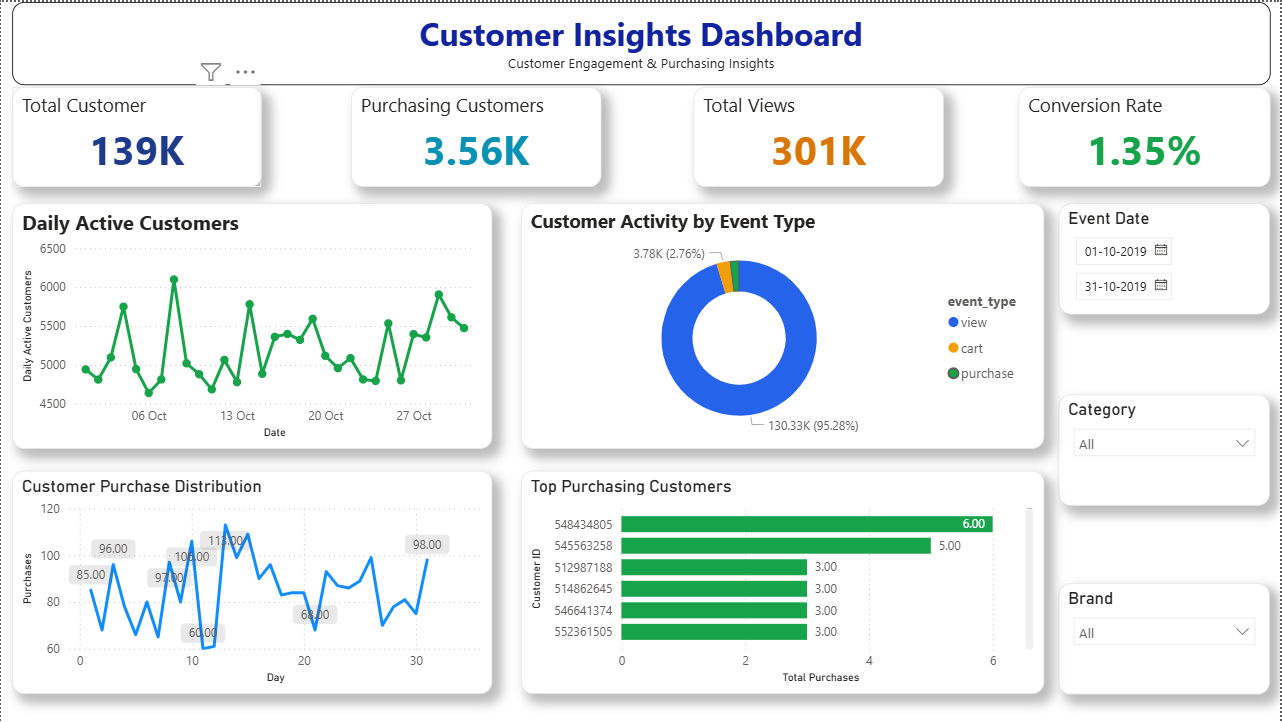

This screenshot's page, from the dashboard's own definition file:
{"tool":"powerbi","page":{"name":"Customer Insights Dashboard","canvas":[1280,720],"ordinal":1},"visuals":[{"type":"textbox","box":[11,0,1258.3,83.2],"z":0},{"type":"slicer","title":"Event Date","fields":{"Values":["events.event_date"]},"box":[1057.8,201.8,211.6,111.3],"z":1000},{"type":"slicer","title":"Category","fields":{"Values":["categories.category_code"]},"box":[1057.8,392.5,211.6,111.3],"z":2000},{"type":"slicer","title":"Brand","fields":{"Values":["products.brand"]},"box":[1057.8,580.8,211.6,111.3],"z":3000},{"type":"card","title":"Total Customer","fields":{"Values":["Measures (2).Total Customers"]},"box":[11,84.4,249.5,100.3],"z":4000},{"type":"card","title":"Purchasing Customers","fields":{"Values":["Measures (2).Total Purchasing Customers"]},"box":[349.7,84.4,250.7,100.3],"z":5000},{"type":"card","title":"Total Views","fields":{"Values":["Measures (2).Total Views"]},"box":[692.1,84.4,250.7,100.3],"z":6000},{"type":"card","title":"Conversion Rate","fields":{"Values":["Measures (2).Conversion Rate"]},"box":[1017.4,84.4,251.9,100.3],"z":7000},{"type":"lineChart","title":"Daily Active Customers","fields":{"Category":["events.event_date"],"Y":["Measures (2).Daily Active Customers"]},"box":[11.3,201.8,480.2,245.7],"z":8000},{"type":"donutChart","title":"Customer Activity by Event Type","fields":{"Category":["events.event_type"],"Y":["CountNonNull(events.event_id)"]},"box":[519.6,201.8,523,245.7],"z":9000},{"type":"lineChart","title":"Customer Purchase Distribution","fields":{"Category":["events.event_date.Variation.Date Hierarchy.Day"],"Y":["Measures (2).Total Purchases"]},"box":[11.3,468.9,480.2,223.2],"z":10000},{"type":"clusteredBarChart","title":"Top Purchasing Customers","fields":{"Category":["events.user_id"],"Y":["Measures (2).Total Purchases"]},"box":[519.6,468.9,523,223.2],"z":11000}]}

Visuals, with their boxes in screenshot pixels (x1, y1, x2, y2), scaled from the page's 1280x720 canvas onto the 1282x722 screenshot:
textbox: x1=11, y1=0, x2=1271, y2=83
"Event Date" slicer: x1=1059, y1=202, x2=1271, y2=314
"Category" slicer: x1=1059, y1=394, x2=1271, y2=505
"Brand" slicer: x1=1059, y1=582, x2=1271, y2=694
"Total Customer" card: x1=11, y1=85, x2=261, y2=185
"Purchasing Customers" card: x1=350, y1=85, x2=601, y2=185
"Total Views" card: x1=693, y1=85, x2=944, y2=185
"Conversion Rate" card: x1=1019, y1=85, x2=1271, y2=185
"Daily Active Customers" lineChart: x1=11, y1=202, x2=492, y2=449
"Customer Activity by Event Type" donutChart: x1=520, y1=202, x2=1044, y2=449
"Customer Purchase Distribution" lineChart: x1=11, y1=470, x2=492, y2=694
"Top Purchasing Customers" clusteredBarChart: x1=520, y1=470, x2=1044, y2=694
